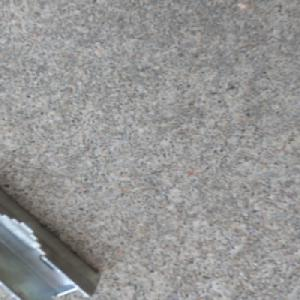ClampPart: (0, 192, 103, 300)
